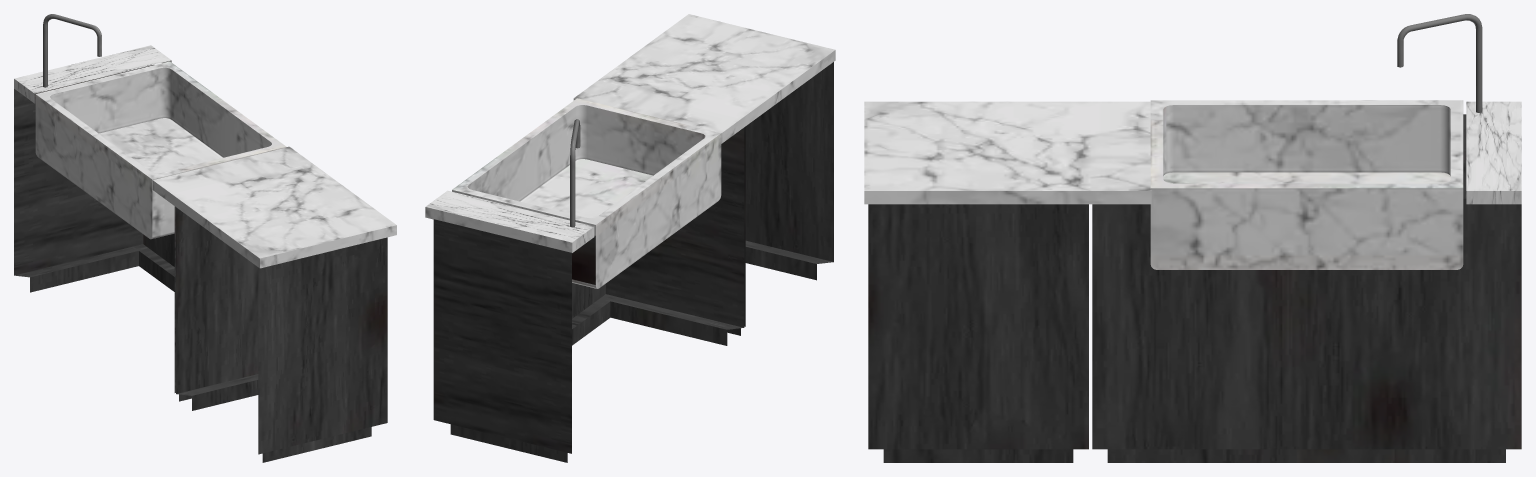
Rendered from kitchen_sink01.glb.
3 views of the same model, side by side, from view 1: azimuth 30°, elevation 25°; view 2: azimuth 150°, elevation 25°; view 3: azimuth 270°, elevation 25° (orthographic). The views are drawn at different scales.
Visible parts, largest first — view 1: kitchen_sink; view 2: kitchen_sink; view 3: kitchen_sink.
Part boxes in pixels (left/top/right/bottom): kitchen_sink: left=14, top=14, right=396, bottom=462; kitchen_sink: left=425, top=14, right=835, bottom=462; kitchen_sink: left=864, top=14, right=1521, bottom=462.
Bounding box in the file's own units: 0.4721 × 0.9433 × 1.46.
3 materials, 3 textured.
